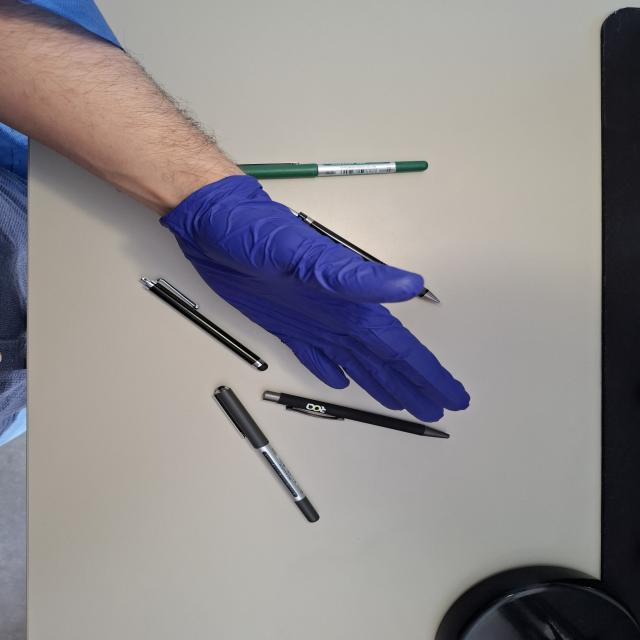glove_on: (155, 173, 476, 428)
